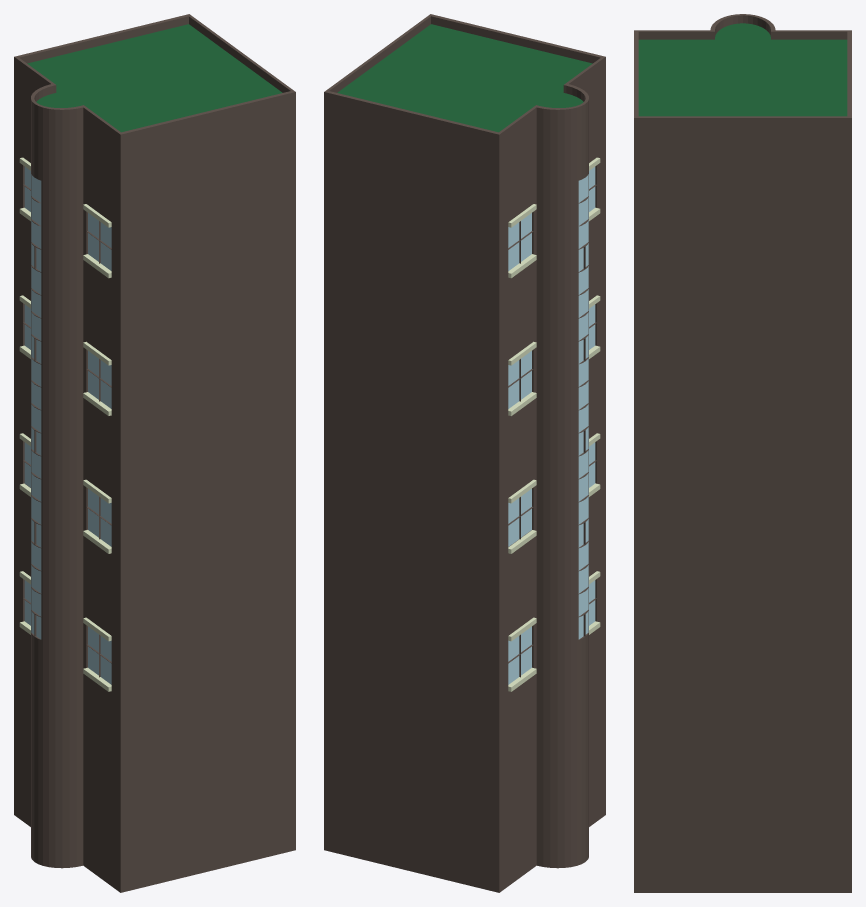
Rendered from Changjogwan_Pilla.glb.
The picture shows the model from 3 angles, left to right: view 1: azimuth 30°, elevation 25°; view 2: azimuth 150°, elevation 25°; view 3: azimuth 270°, elevation 25°; orthographic projection. The views are drawn at different scales.
Parts seen in each view (by area): view 1: inside-building.001; view 2: inside-building.001; view 3: inside-building.001.
Boxes of the visible parts, box(x1,y1,x2,y2) form: inside-building.001: box(14, 14, 295, 892); inside-building.001: box(324, 14, 605, 892); inside-building.001: box(634, 14, 851, 892).
Size of the model in its own units: 47.4 by 165 by 42.
